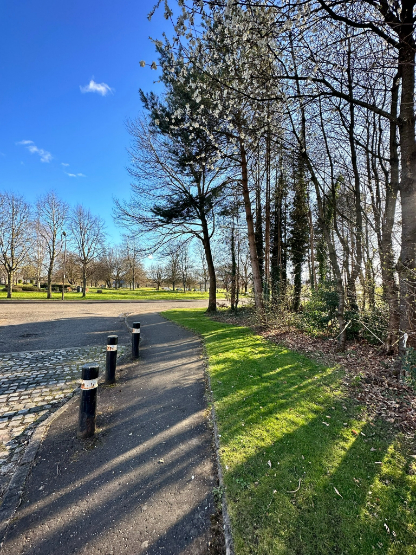tree: (304, 2, 416, 340), (172, 15, 285, 308), (122, 99, 230, 307), (1, 181, 31, 307), (73, 195, 105, 311), (37, 181, 68, 292)
